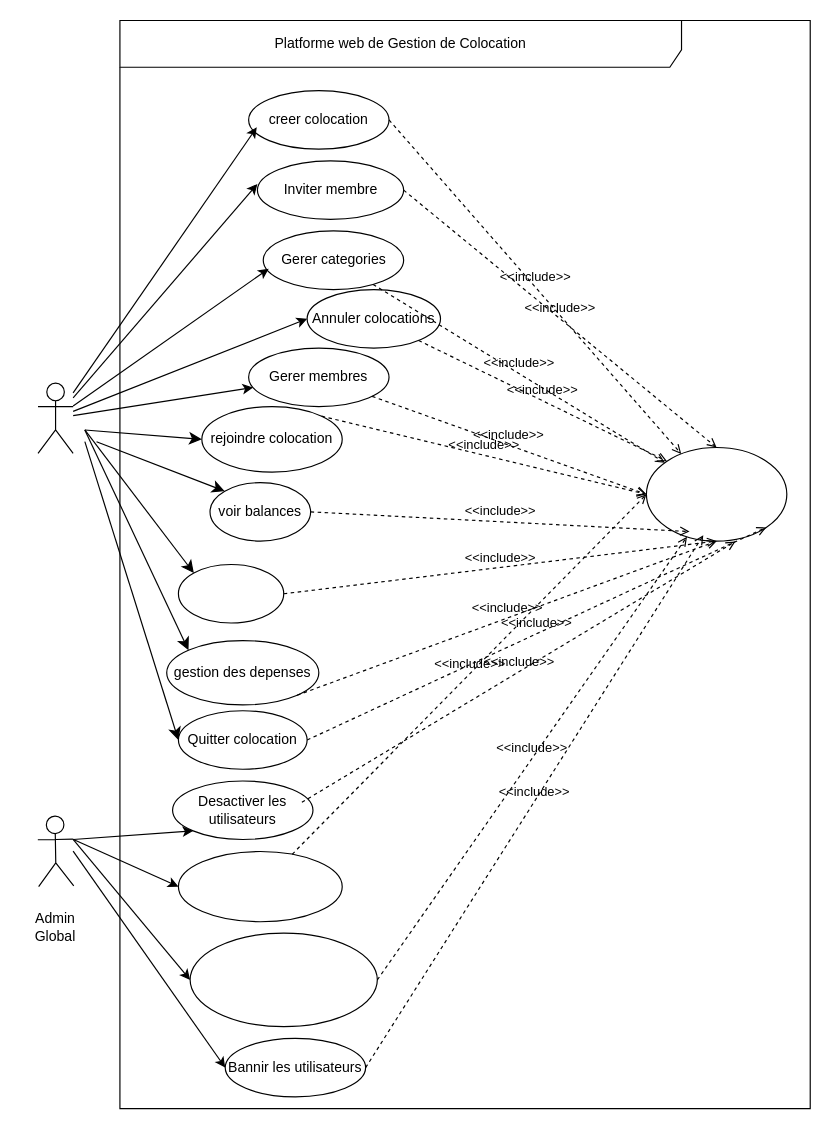
Some shapes in this 831 by 1129 pixel diagram are drawn without their labels. Each missing label, with the centre of its shape:
"acces aux satistiques globales" goes at (x=259, y=886).
"authentification" goes at (x=716, y=493).
"Marquer Paye" goes at (x=230, y=593).
"rejoindre une ou plusieurs colocations" goes at (x=283, y=979).
"User" goes at (x=55, y=417).
